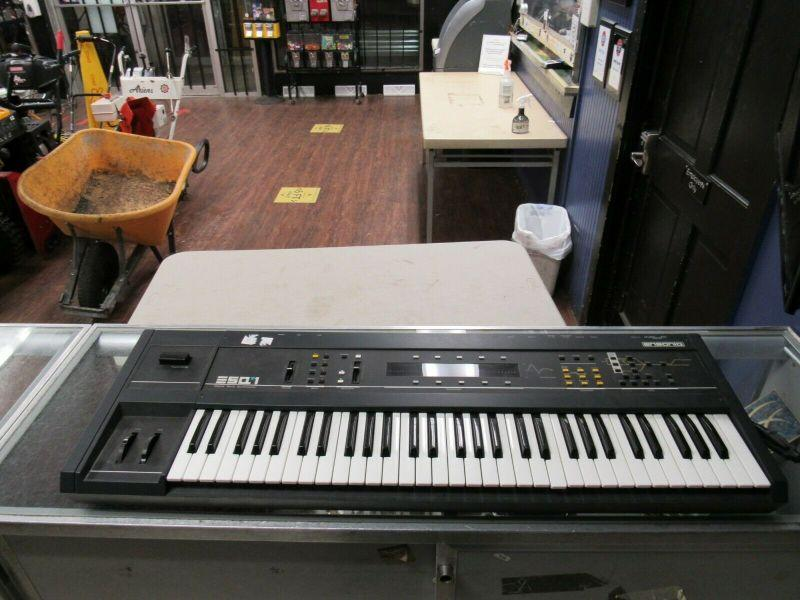synthesizer: (76, 315, 767, 504)
